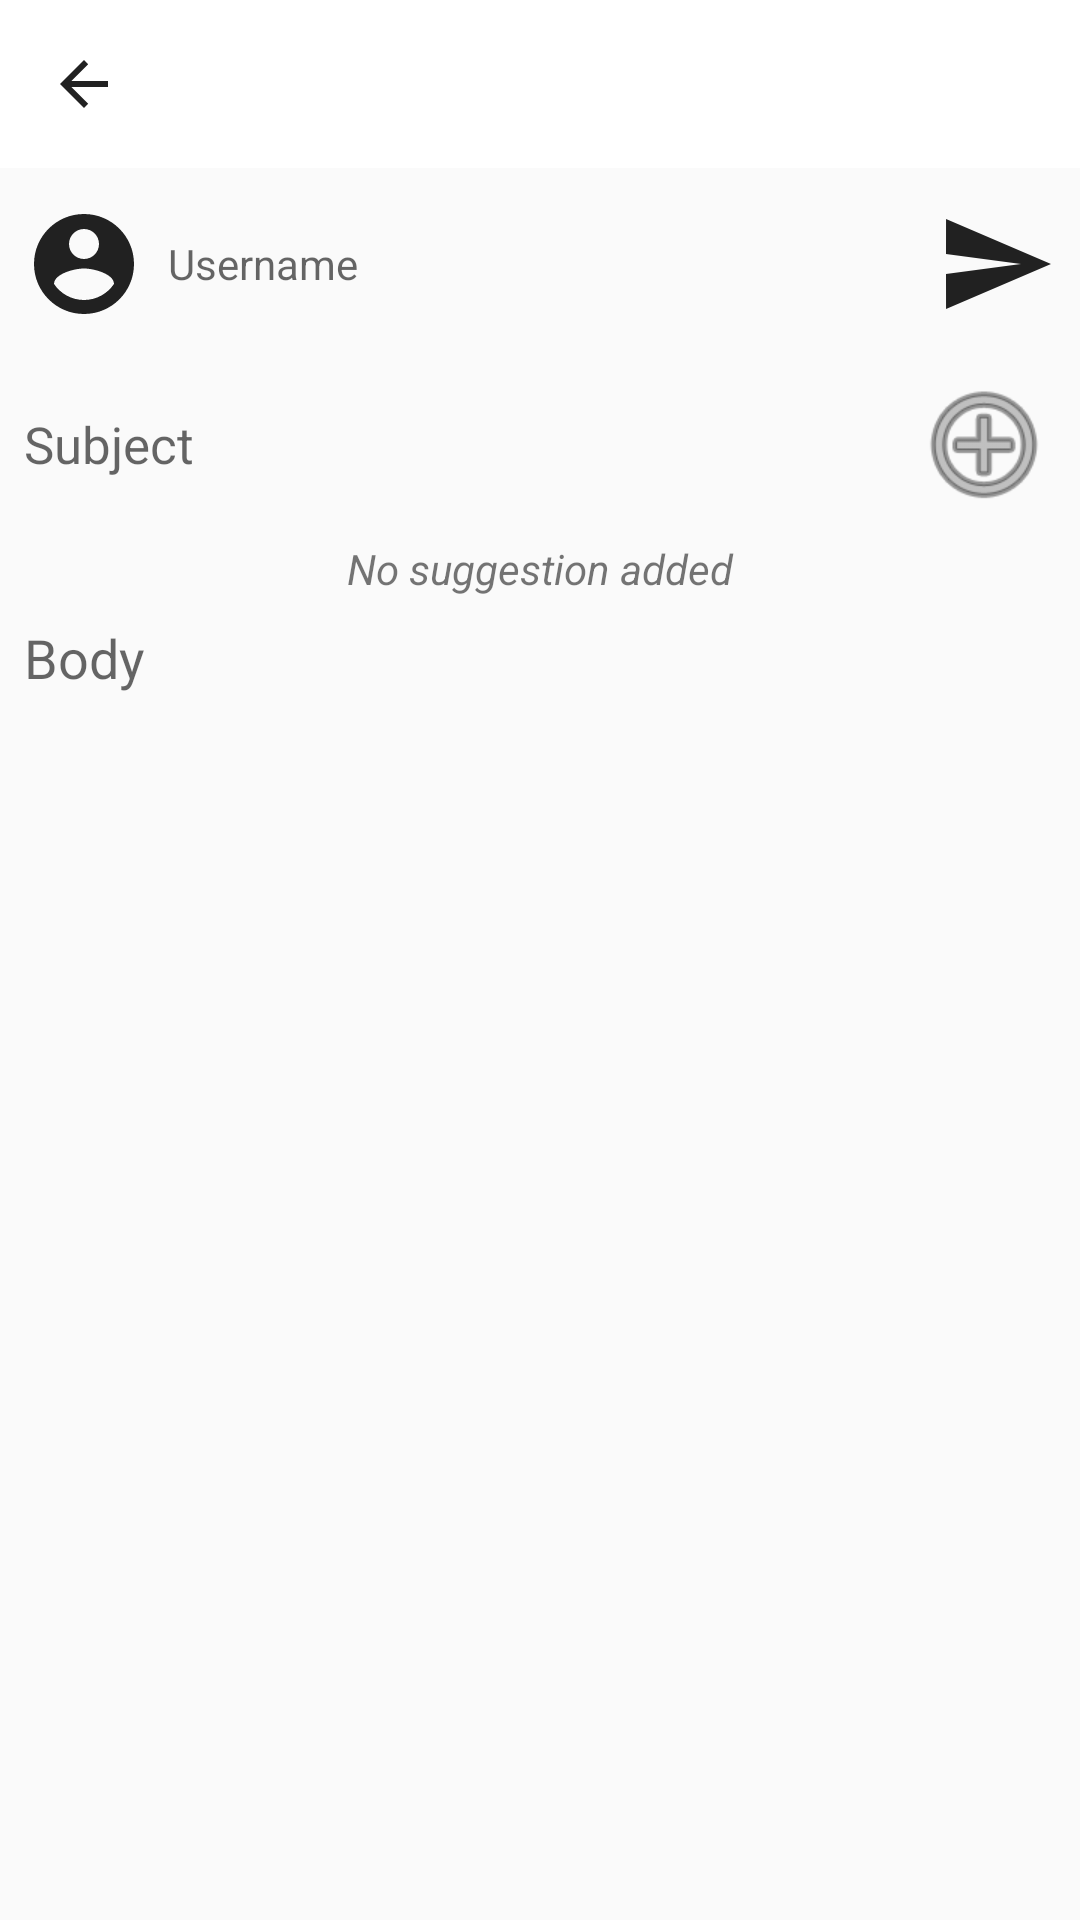

Where to tap for icons on this 1080×1920 app screen, as point (x, y):
account circle: point (84, 264)
add: point (984, 444)
send: point (998, 264)
